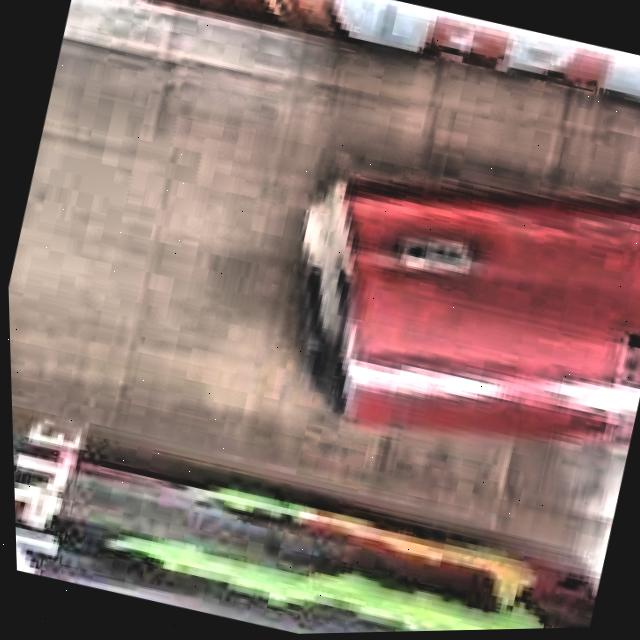metal: (9, 403, 596, 635), (299, 179, 640, 448)
